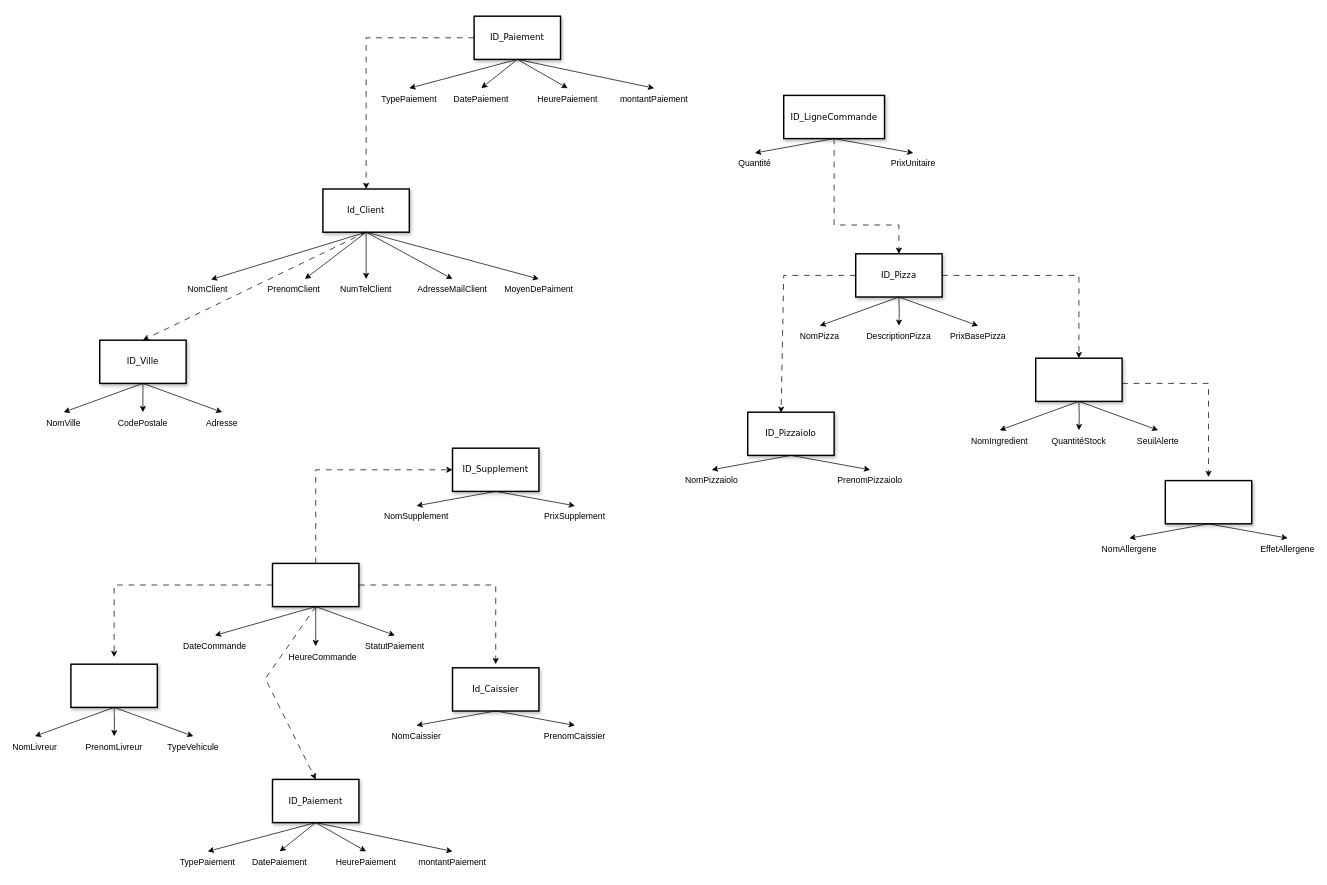
Some shapes in this 1327 by 885 pixel diagram are drawn without their labels. The centre of each missing label's shape, as x and y in pixels:
ID_Allergene: the point at 1208,503
ID_Commande: the point at 316,585
ID_Ingredient: the point at 1079,380
ID_Livreur: the point at 114,686
